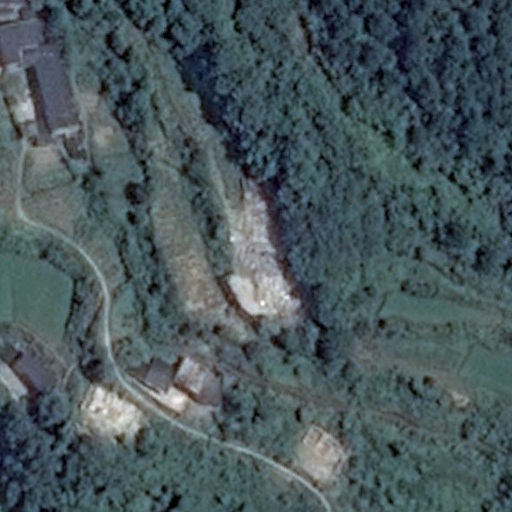msw: (233, 184, 293, 314)
